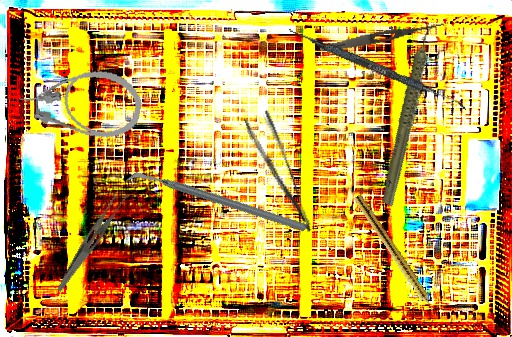Cannula: (14, 56, 147, 145)
Chopper: (126, 115, 309, 291)
Dressing Forceps: (242, 108, 315, 241), (56, 186, 130, 299), (319, 18, 445, 55)
Handpiece: (346, 23, 475, 208), (350, 193, 440, 317)
Spatula Surgical: (286, 27, 470, 110)
